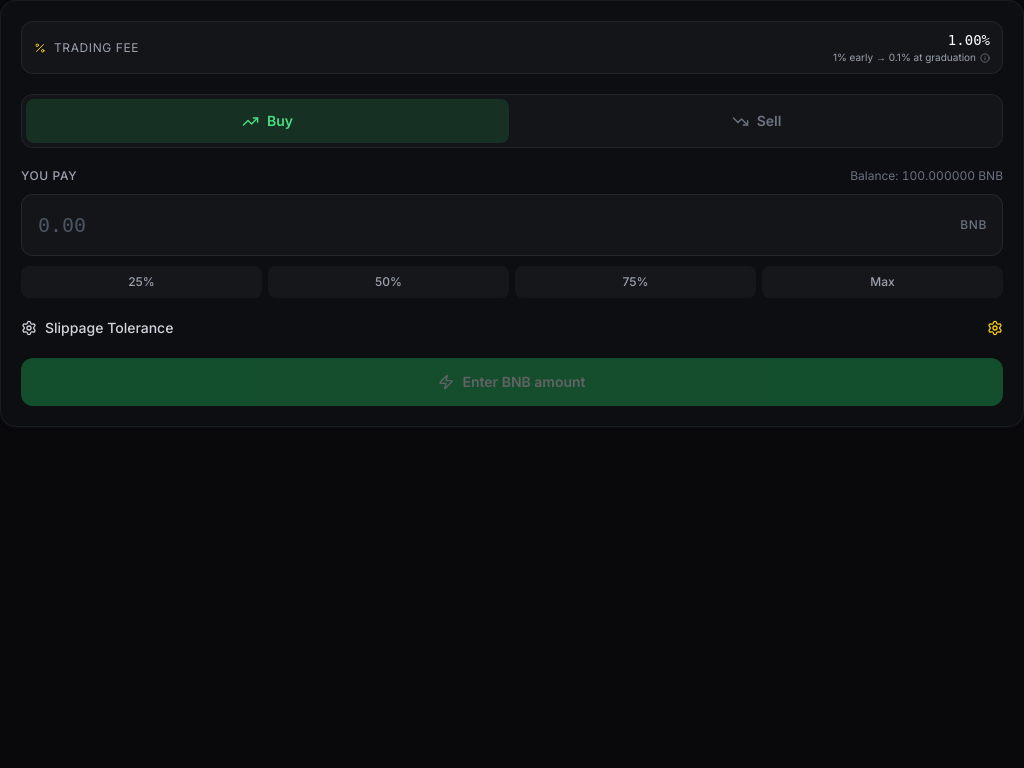
TradingInterface › Quick Amount Presets › should set 25% of balance when clicking 25% button
What coordinates should you click on to do the following:
click the button "25%"
I would click on:
 (142, 282)
Its box is top-left (21, 266), bottom-right (262, 298).
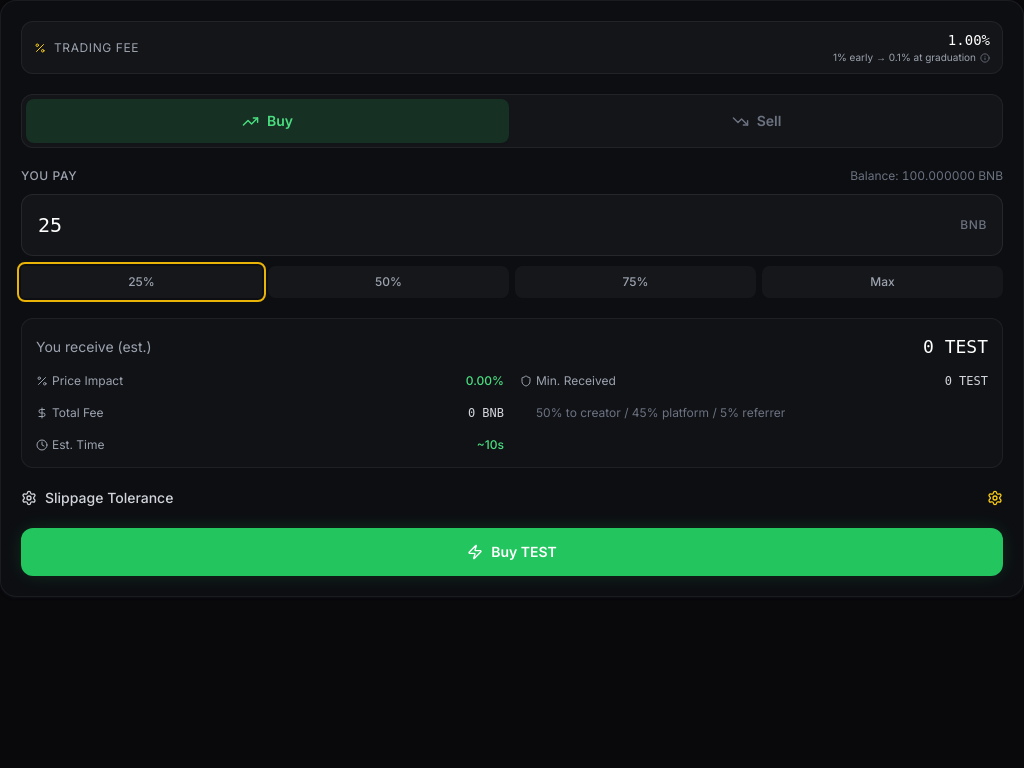
Now the number field with placeholder "0.00" holds "25", box top-left (21, 194), bottom-right (1003, 256)
